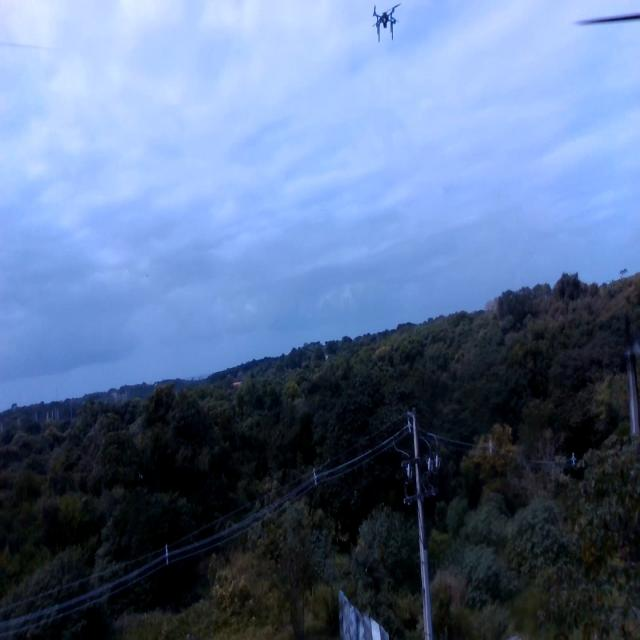-uav-: (368, 1, 402, 51)
